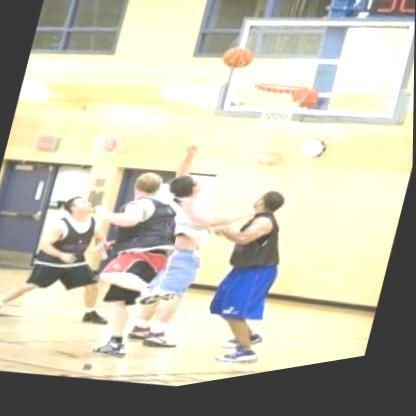basketball: (220, 46, 259, 87)
